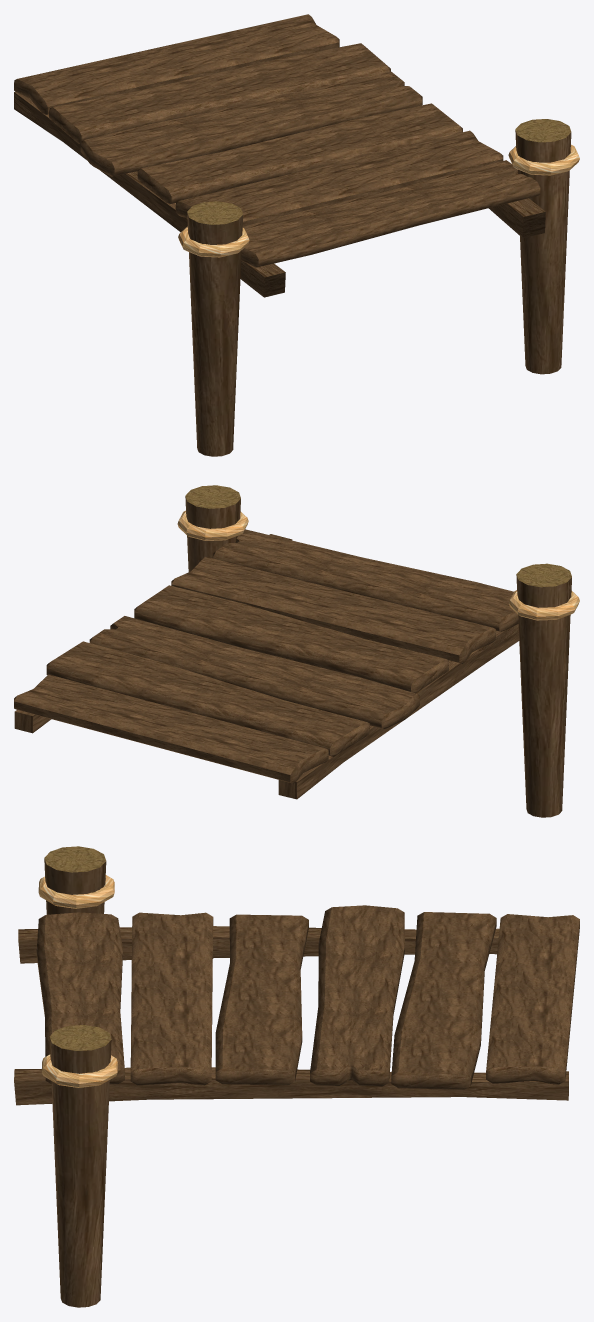
Rendered from dock01.glb.
3 views of the same model, one above another, from view 1: azimuth 30°, elevation 25°; view 2: azimuth 150°, elevation 25°; view 3: azimuth 270°, elevation 25° (orthographic). The views are drawn at different scales.
Parts seen in each view (by area): view 1: Dock01; view 2: Dock01; view 3: Dock01.
Part boxes in pixels (box(x1,y1,x2,y2)): Dock01: box(14, 14, 579, 456); Dock01: box(14, 485, 579, 817); Dock01: box(14, 846, 579, 1307).
Bounding box in the file's own units: 6.54 × 3.74 × 7.35.
3 materials, 3 textured.
